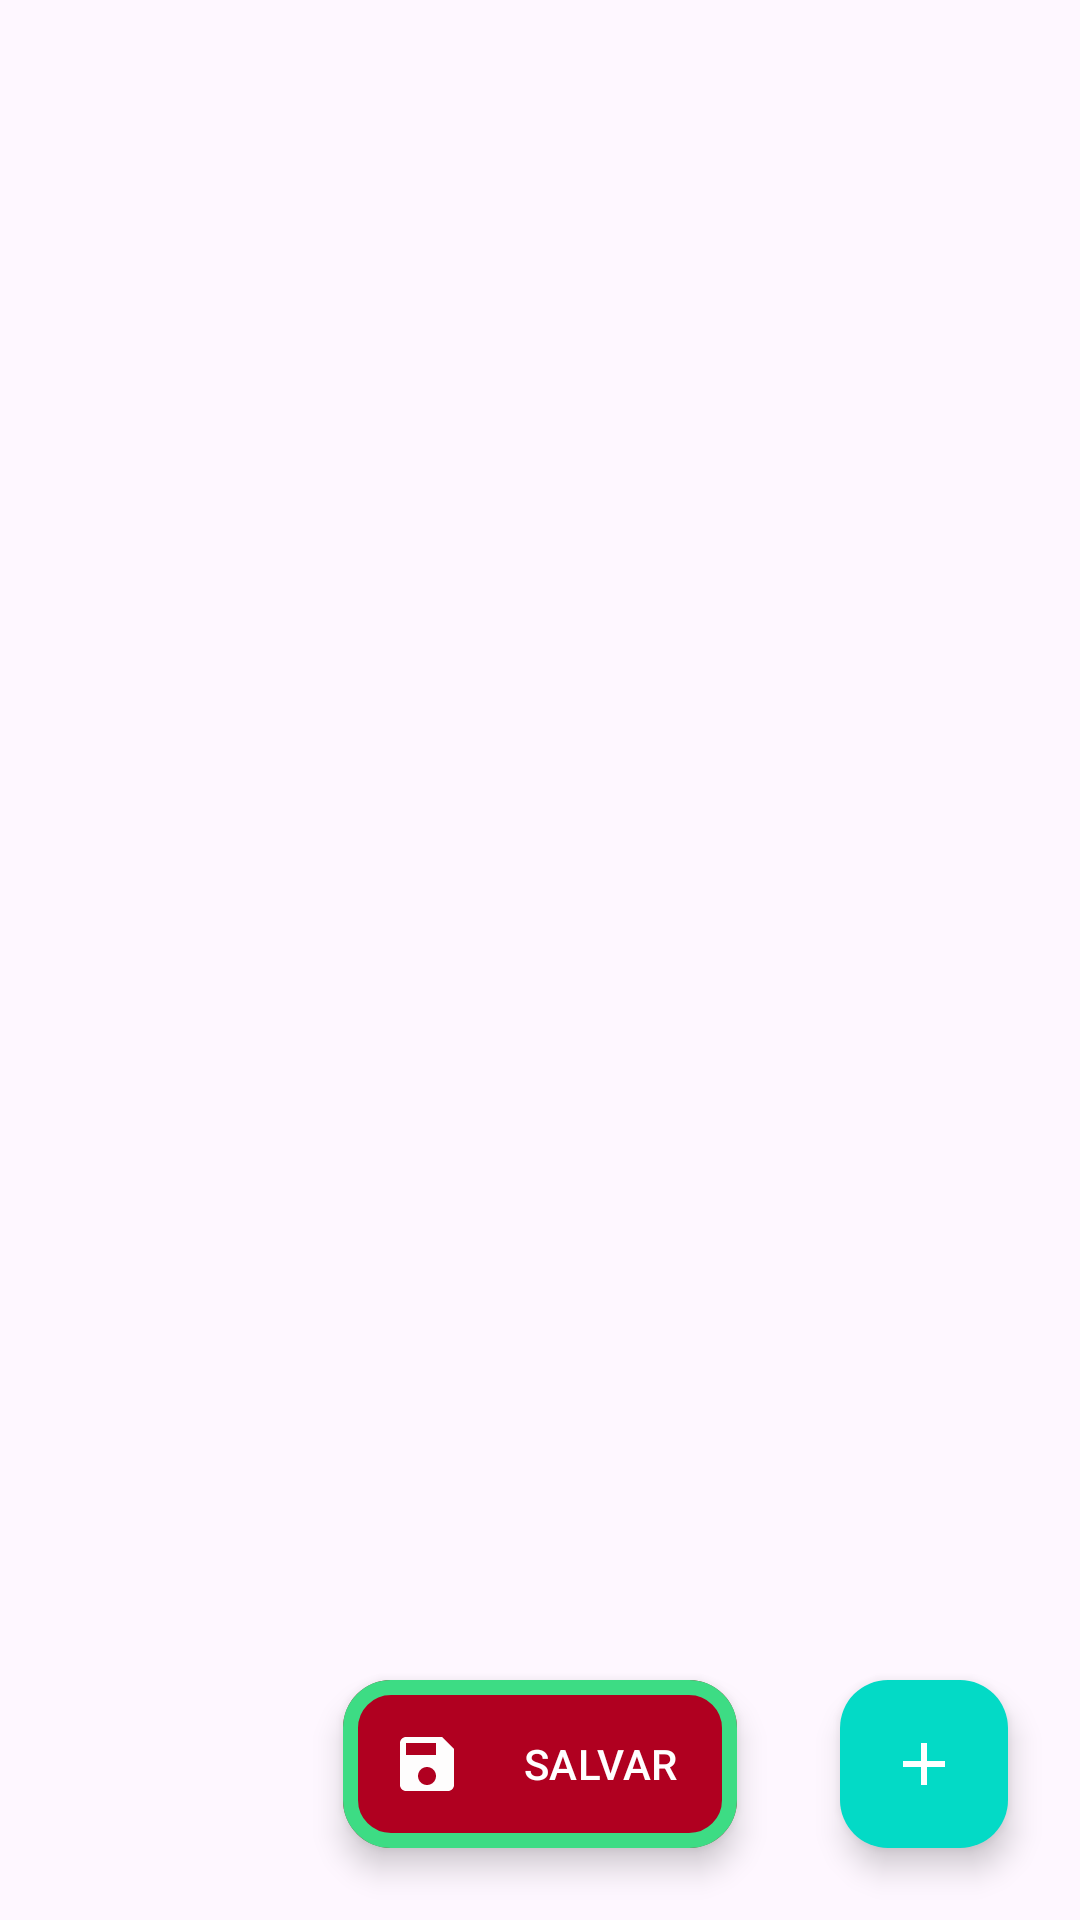

Icons on this 1080px×1920px Android screen, each with the point to tap as (x=x, y=y):
Add button: (x=924, y=1764)
